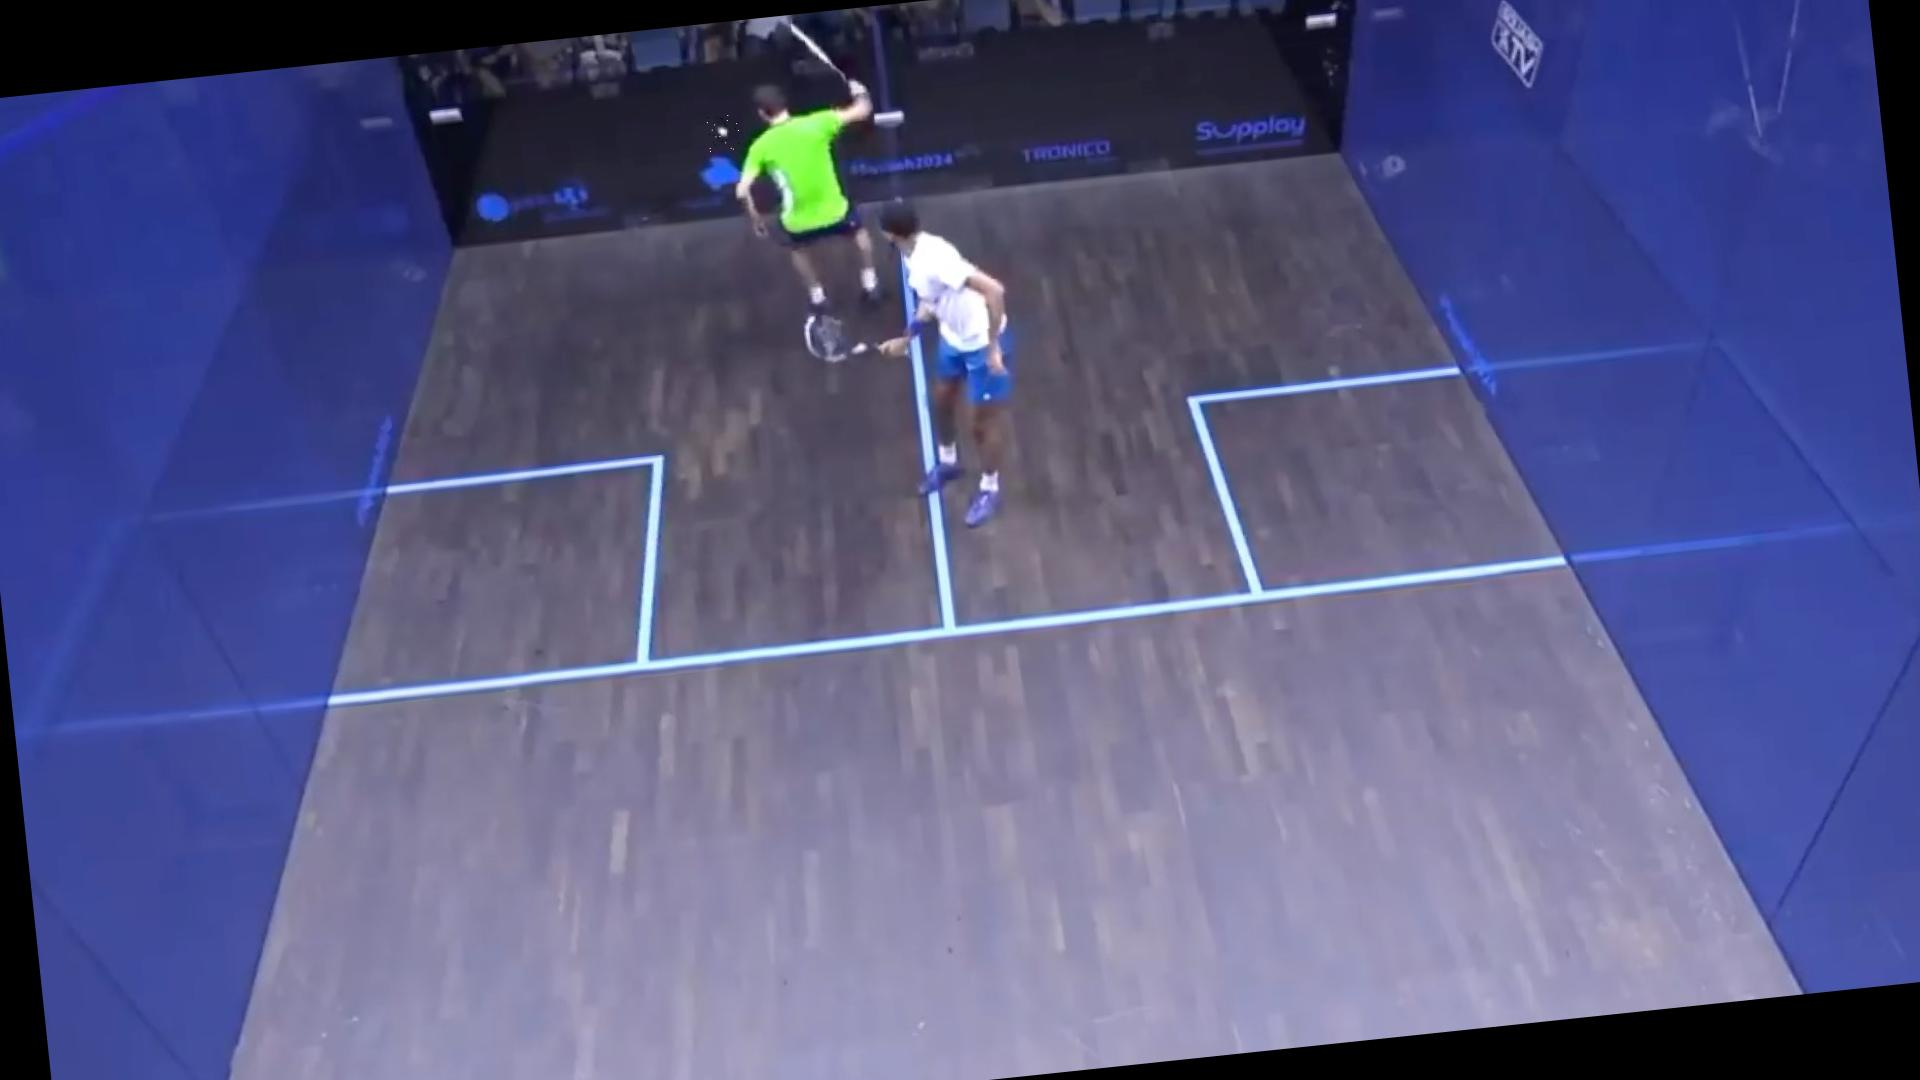Squash-Ball: (707, 113, 741, 152)
